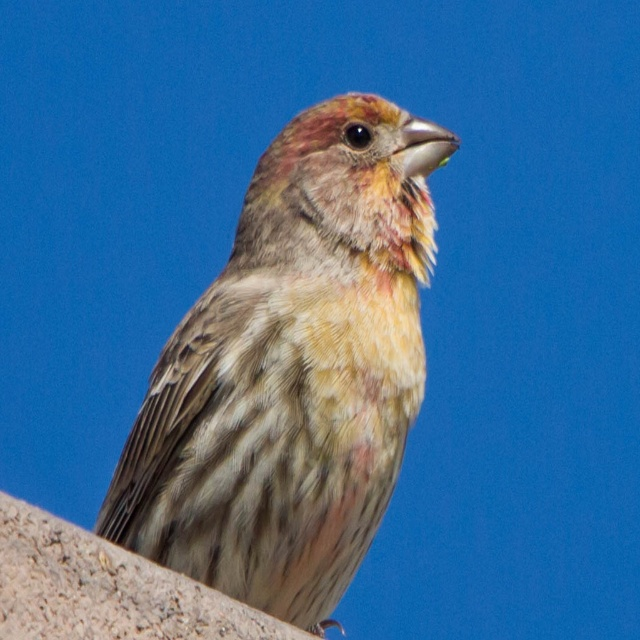Sparrow: (95, 92, 461, 636)
